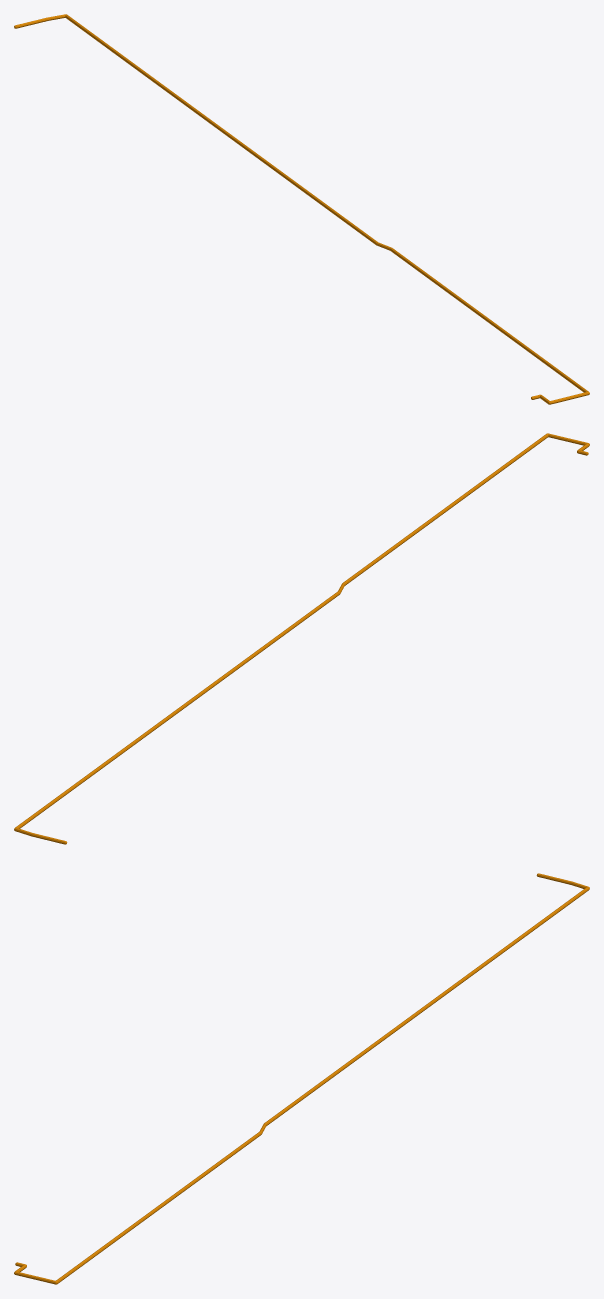
3 views of the same model, one above another, from view 1: azimuth 30°, elevation 25°; view 2: azimuth 150°, elevation 25°; view 3: azimuth 330°, elevation 25° (orthographic). The views are drawn at different scales.
Size of the model in its own units: 360 by 20 by 5686.
